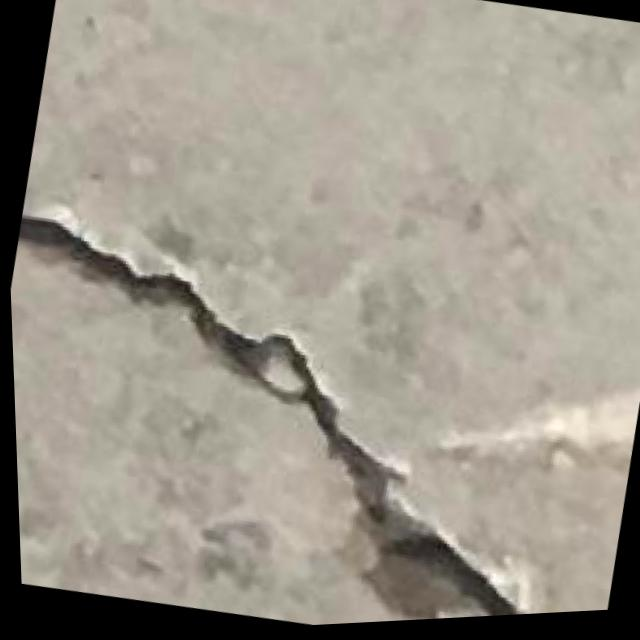Crack: (6, 189, 615, 640)
